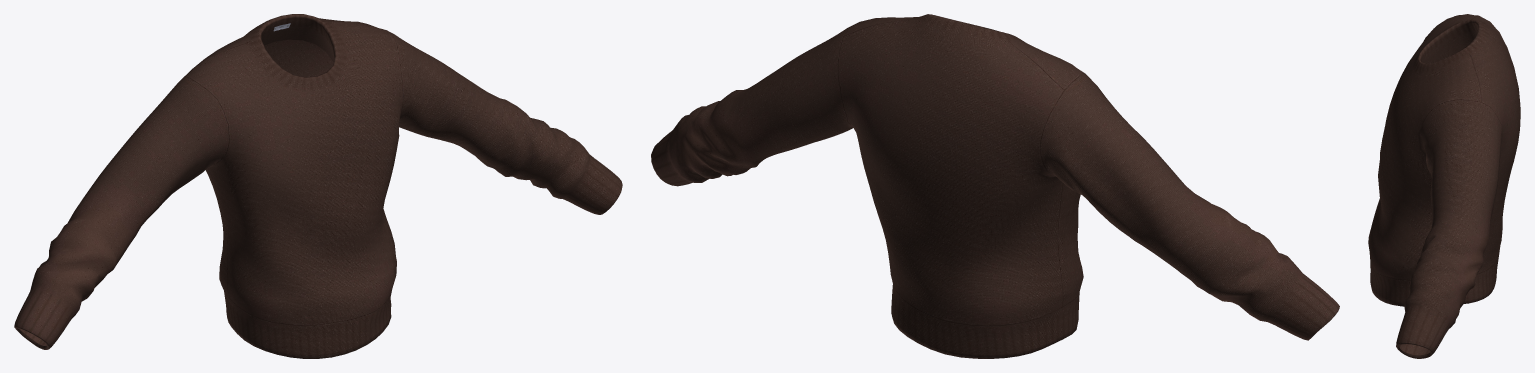
The model's file is sweater.glb.
The picture shows the model from 3 angles, left to right: view 1: azimuth 30°, elevation 25°; view 2: azimuth 150°, elevation 25°; view 3: azimuth 270°, elevation 25°; orthographic projection. The views are drawn at different scales.
Parts seen in each view (by area): view 1: Sweater_low; view 2: Sweater_low; view 3: Sweater_low.
Part boxes in pixels (x1,y1,x2,y2): Sweater_low: (14, 14, 622, 358); Sweater_low: (651, 14, 1339, 358); Sweater_low: (1368, 14, 1520, 358).
Bounding box in the file's own units: 5.53 × 2.58 × 1.37.
Materials: 1 (1 with a texture image).
